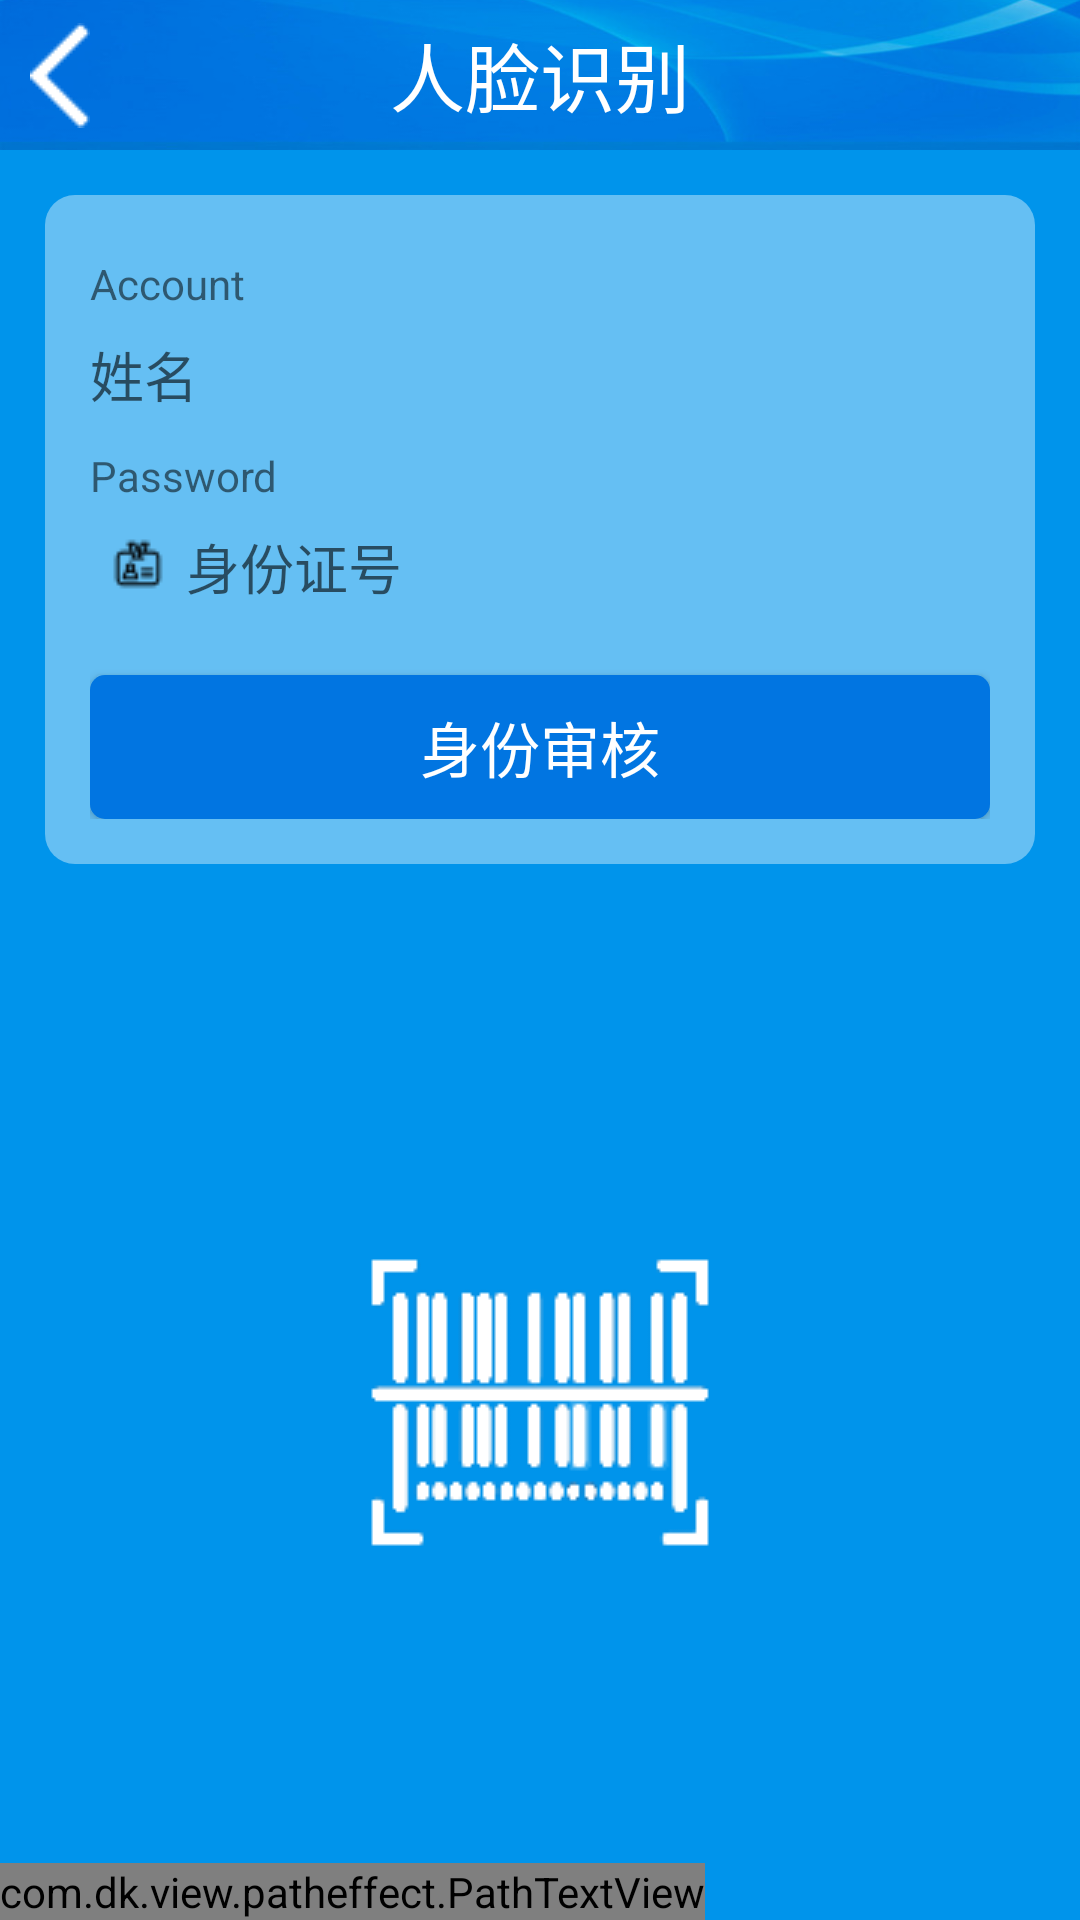

Named icons in this screenshot (1080px×1920px) and their centers, (x,y):
bar back: (60,75)
